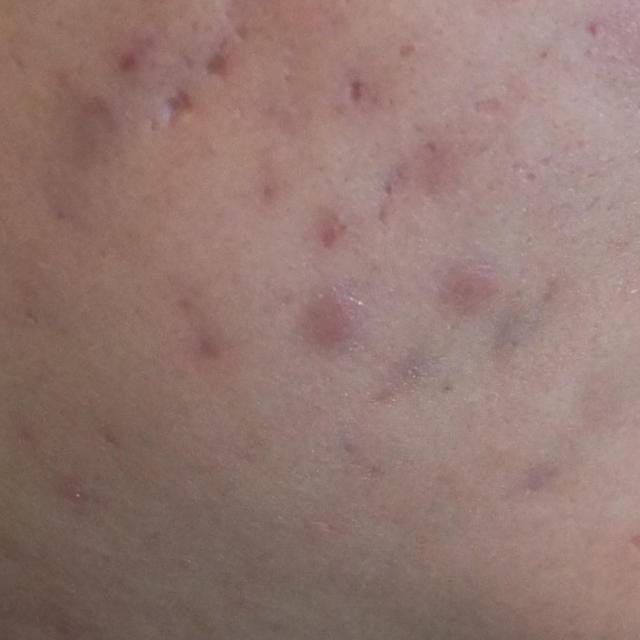blackhead: (444, 384, 452, 392)
nodule: (310, 294, 362, 339), (444, 264, 496, 308)
